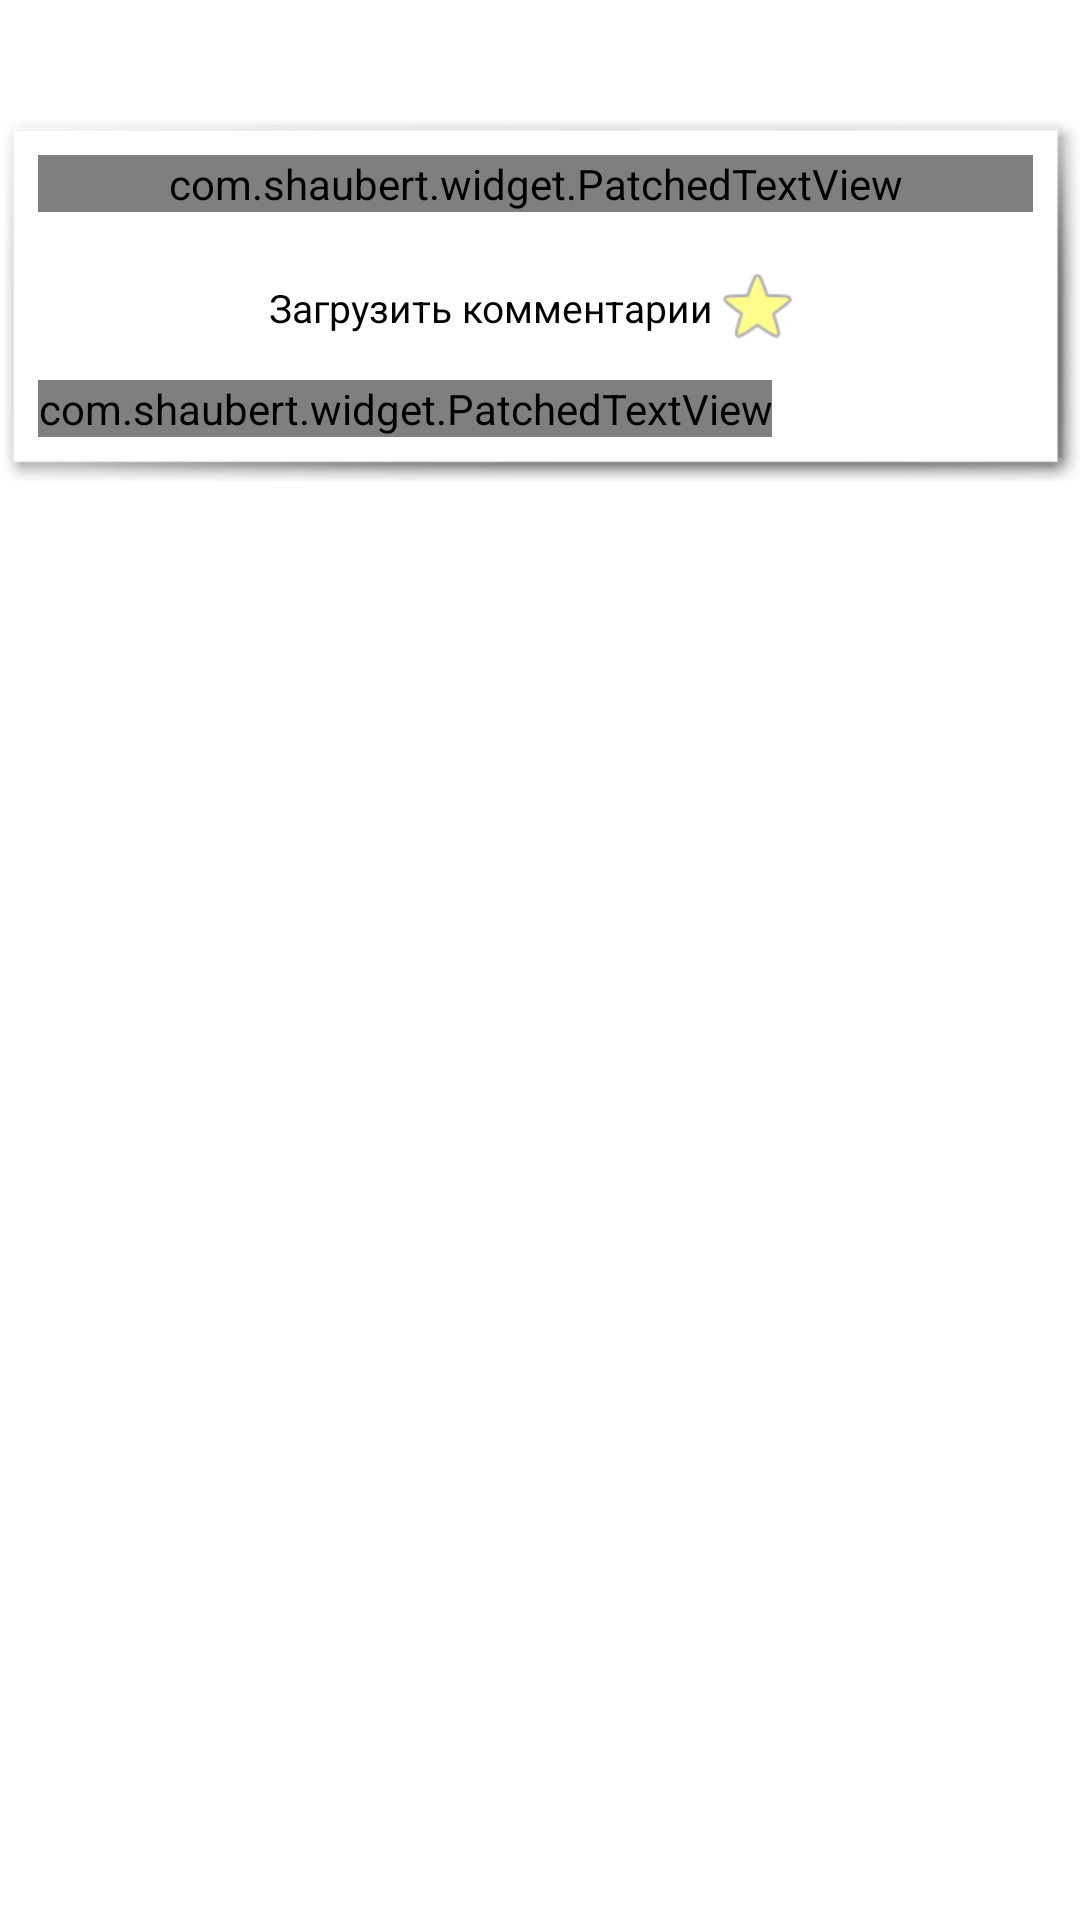

Where to tap for icons on this 1080w x 1920h app screen, as (x,y):
star: (757,306)
